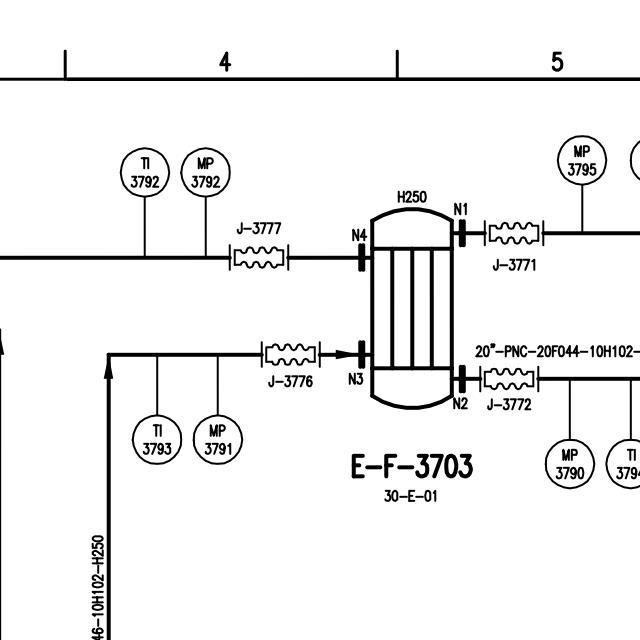E2: (367, 200, 457, 414)
EJ: (224, 239, 294, 273), (256, 336, 325, 369), (480, 217, 548, 249), (475, 363, 543, 395)
